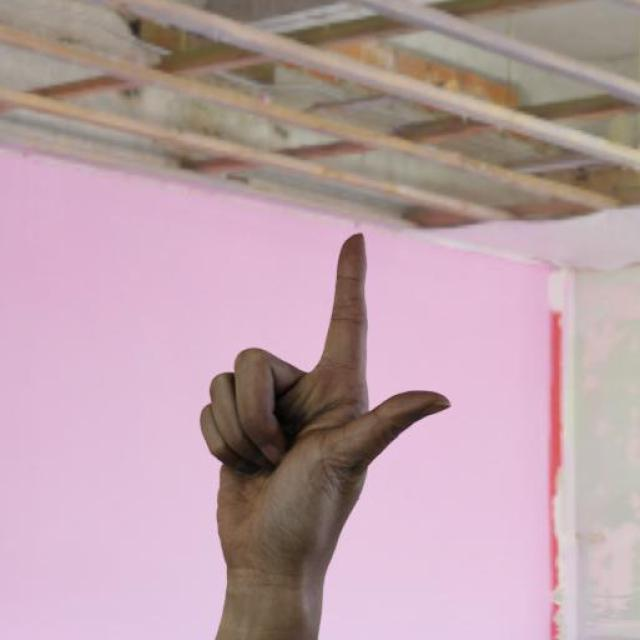L: (195, 230, 455, 554)
